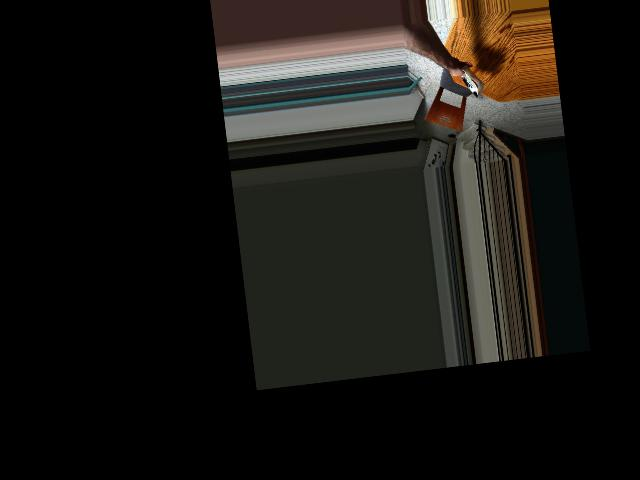cheese: (457, 62, 485, 99)
